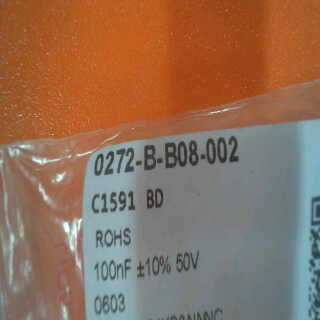100nF: (94, 256, 134, 285)
